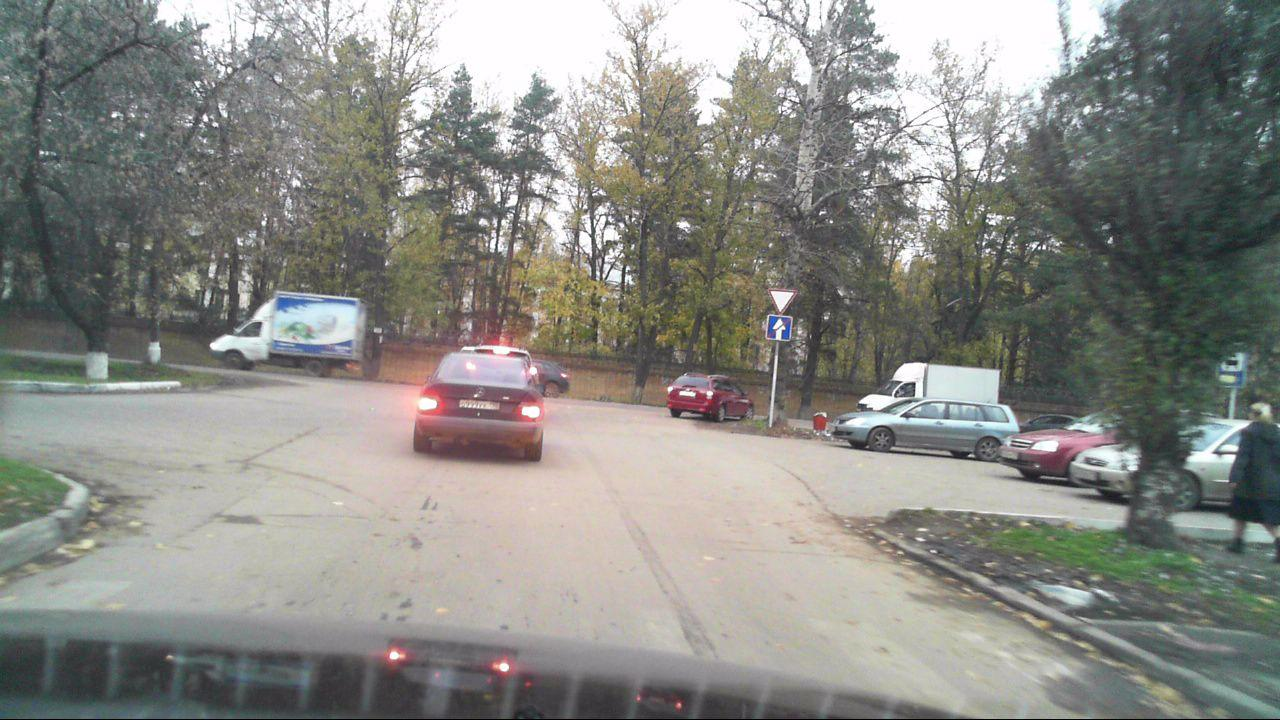2_4: (768, 286, 798, 313)
5_18: (1217, 336, 1244, 387)
5_6: (766, 316, 792, 342)
